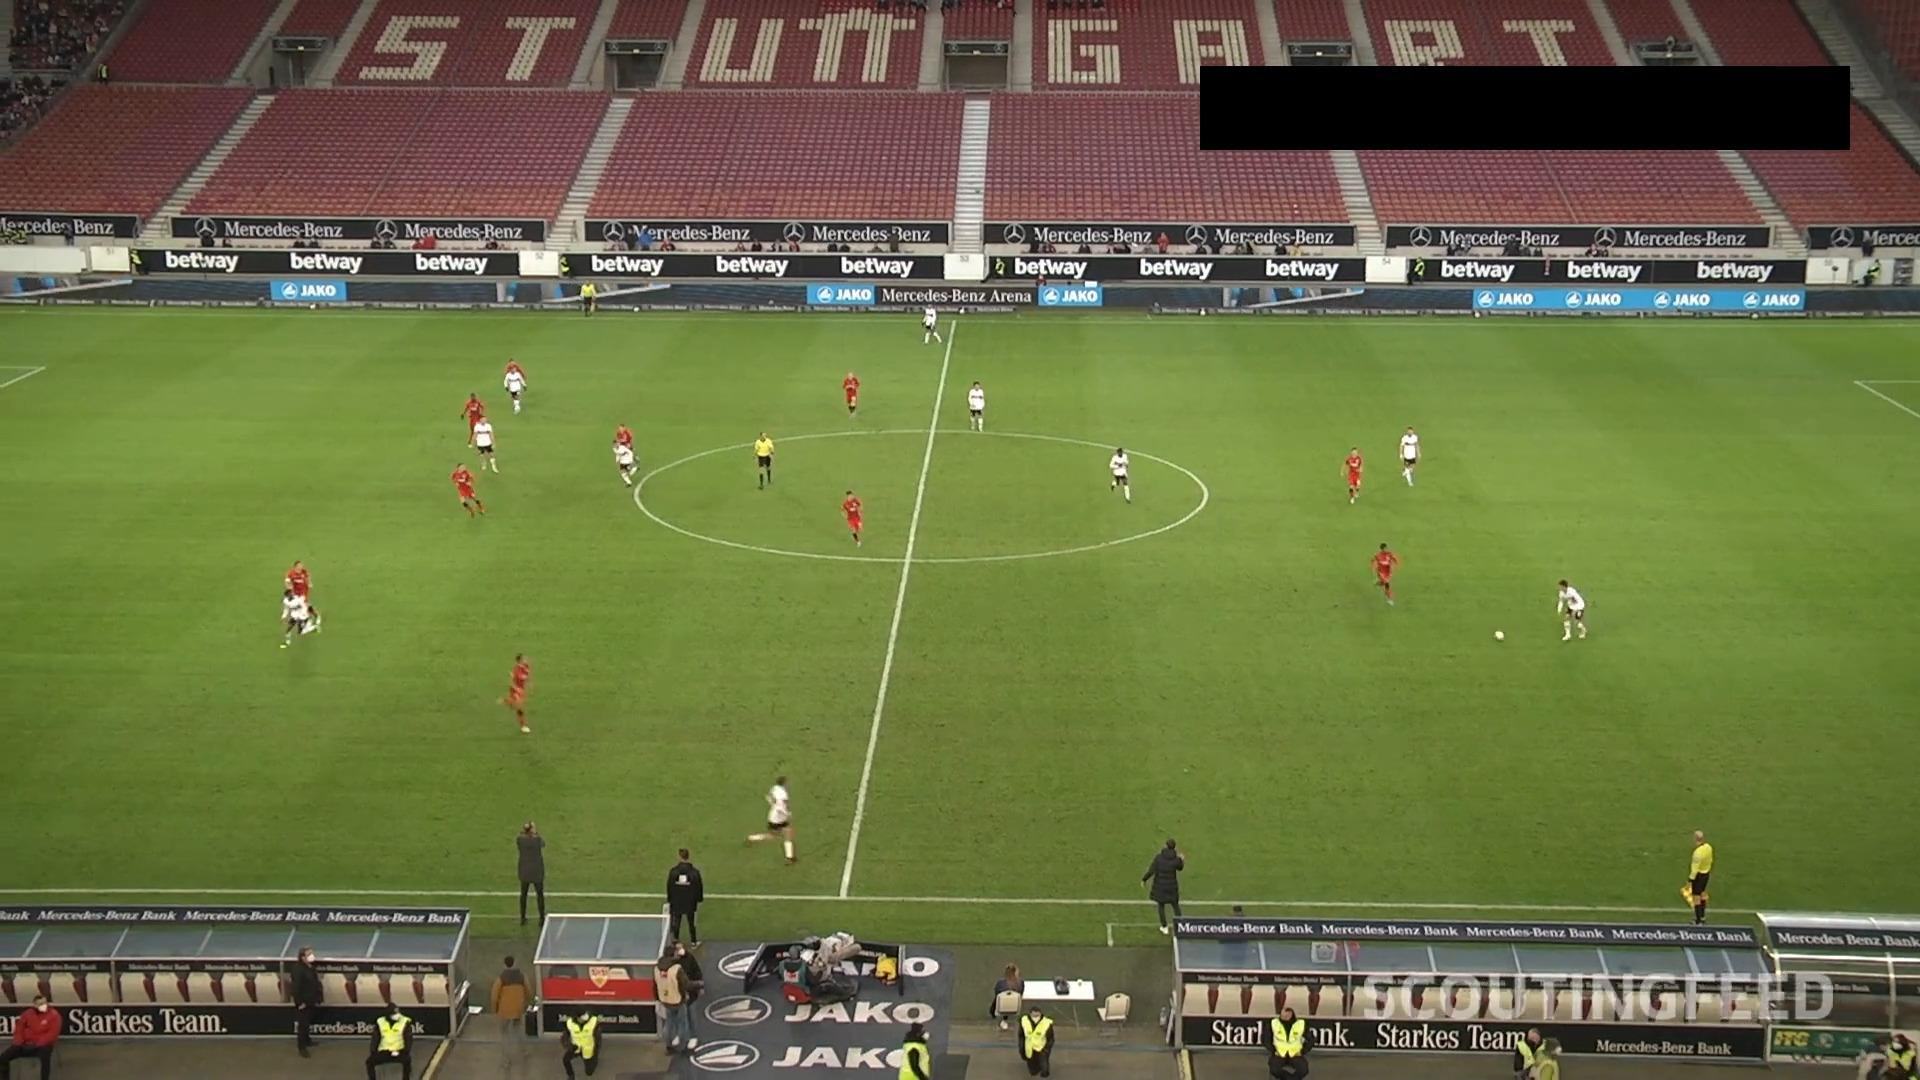ball: (1491, 629, 1506, 642)
